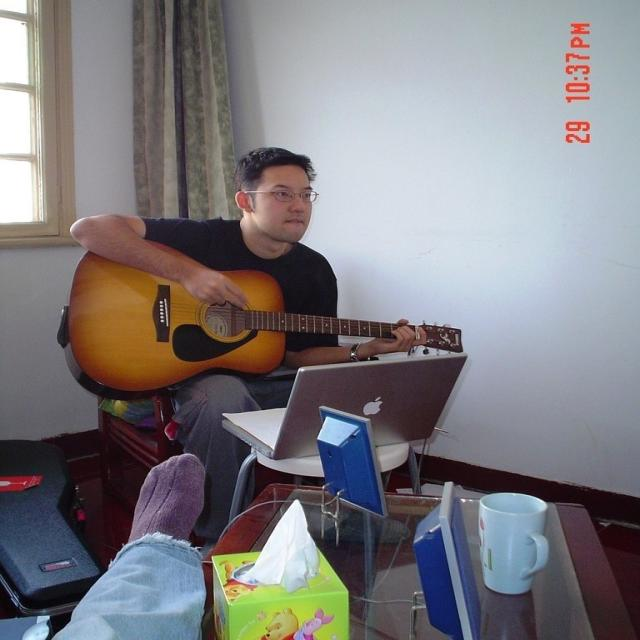guitar: (59, 247, 465, 401)
